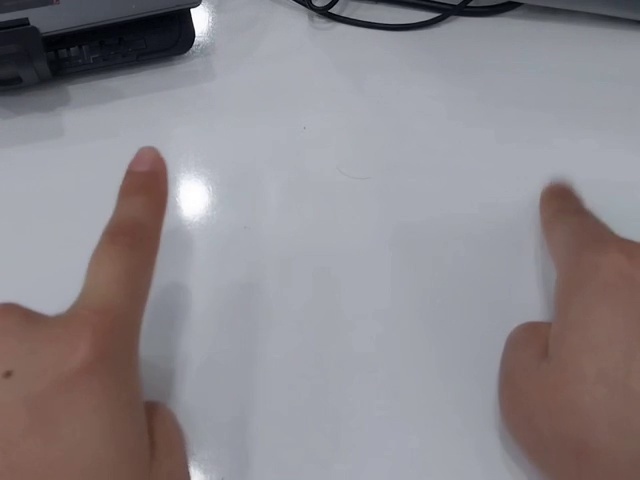fingers: (118, 145, 169, 200), (537, 182, 584, 230)
